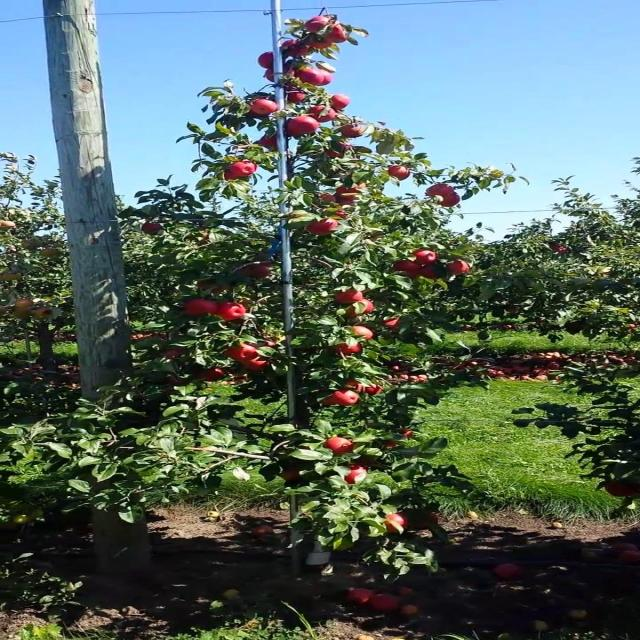apple: (291, 116, 320, 136), (412, 512, 441, 532), (227, 344, 261, 361), (184, 300, 217, 317), (383, 516, 411, 534), (269, 68, 297, 86), (198, 280, 229, 296), (220, 304, 249, 321), (284, 40, 313, 57), (348, 300, 377, 317), (326, 440, 356, 456), (326, 24, 350, 44), (312, 220, 341, 236), (355, 380, 384, 396), (326, 144, 354, 160), (604, 484, 638, 497), (305, 16, 331, 33), (241, 264, 270, 279), (312, 108, 340, 123), (397, 260, 420, 278), (198, 368, 226, 382), (298, 68, 320, 85), (333, 392, 361, 405), (333, 292, 363, 304), (255, 100, 277, 116), (348, 468, 370, 484), (340, 124, 363, 139), (447, 260, 469, 275), (312, 36, 334, 51), (419, 264, 439, 280), (340, 184, 368, 195), (319, 68, 334, 88), (390, 168, 412, 180), (433, 184, 455, 196), (419, 252, 441, 264), (355, 328, 377, 340), (234, 164, 256, 176), (362, 384, 384, 396), (440, 196, 462, 208), (248, 360, 270, 372), (333, 96, 350, 111), (262, 52, 277, 69), (340, 344, 363, 355), (13, 304, 34, 316), (13, 308, 32, 320), (170, 376, 190, 387), (255, 264, 272, 276), (383, 320, 400, 331), (141, 224, 164, 232), (13, 300, 36, 308), (262, 136, 277, 148), (291, 92, 306, 104), (170, 348, 185, 360), (348, 380, 363, 392), (227, 168, 242, 180), (234, 372, 249, 384), (340, 196, 357, 206), (13, 516, 34, 524), (355, 460, 377, 467), (397, 432, 414, 441), (319, 196, 338, 204), (284, 472, 300, 481), (262, 340, 279, 348), (383, 440, 400, 448), (227, 172, 242, 180), (333, 212, 348, 220), (412, 376, 427, 384), (404, 432, 414, 440), (326, 400, 336, 406), (383, 444, 398, 448)
